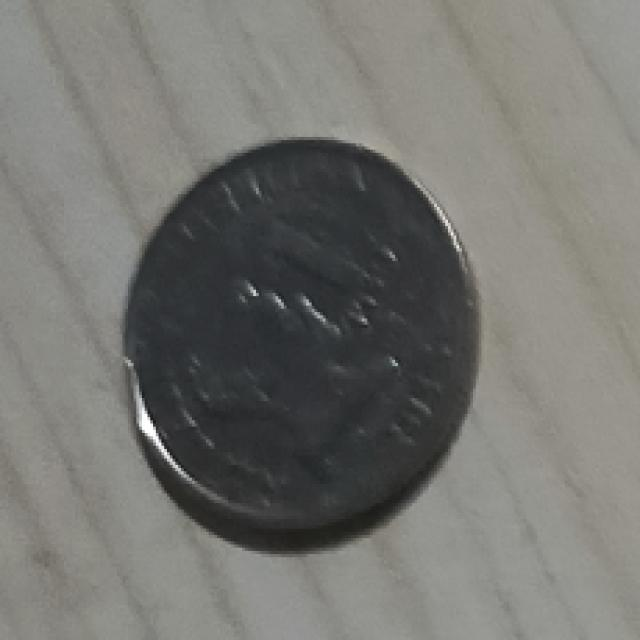1_peso: (128, 140, 476, 525)
